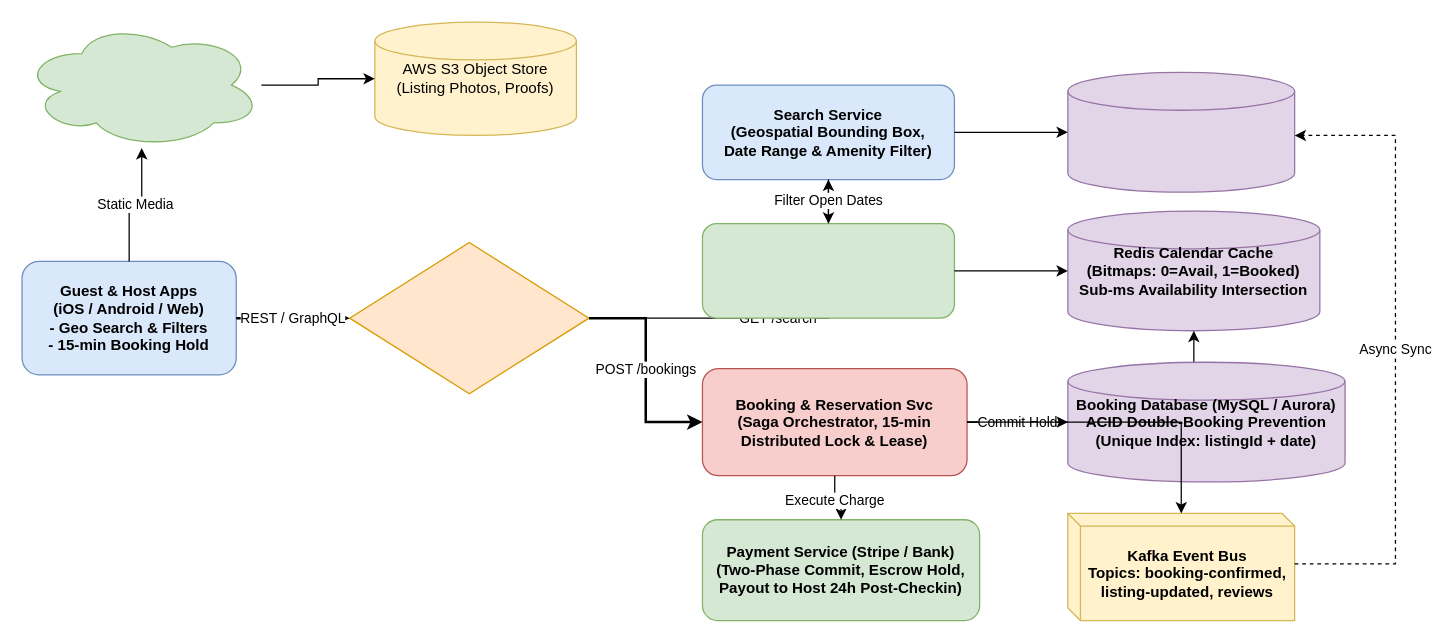
Some shapes in this 1453 by 643 pixel diagram are drawn without their labels. The centre of each missing label's shape, as x and y in pixels:
"API Gateway / Envoy (Auth, Rate Limiting, SSL, Idempotency Key Check)" belongs at pixel 468 317.
"Availability Service (Listing Date Bitmaps: 365 bits/year in Redis)" belongs at pixel 827 270.
"Elasticsearch Cluster (Geo-Point Index, Price, Room Type, Ratings)" belongs at pixel 1181 131.
"Global Edge CDN (Caches Listing Photos, Floor Plans & Reviews)" belongs at pixel 141 84.
